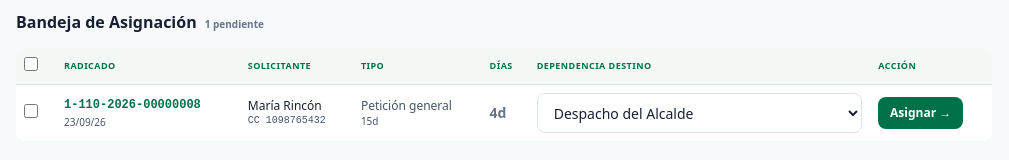
Scenario: Bandeja de asignación · acceso y asignación intactos › asignar una fila envía la dependencia elegida y el funcionario que asigna
This screenshot has width=1009, height=160.
Select "Secretaría de Gobierno" in the dropdown named "Dependencia destino de 1-110-2026-00000008": [700, 113] box [537,93,862,133]
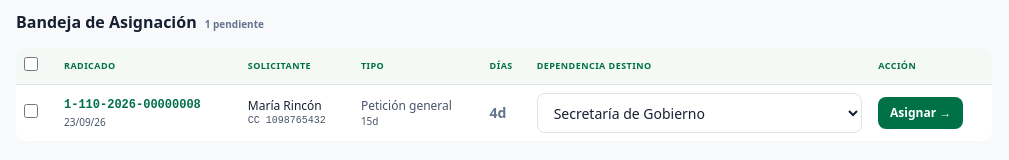
Click the button "Asignar →": [921, 113] box [878,97,964,129]
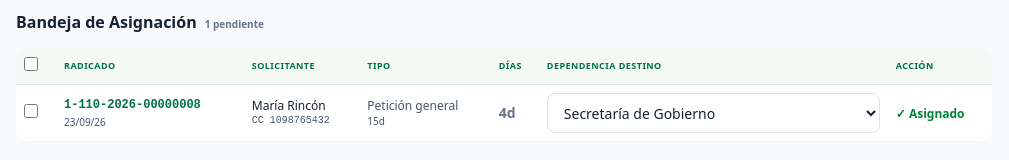
Expected: the text "✓ Asignado" is shown, [896,105,964,122]
